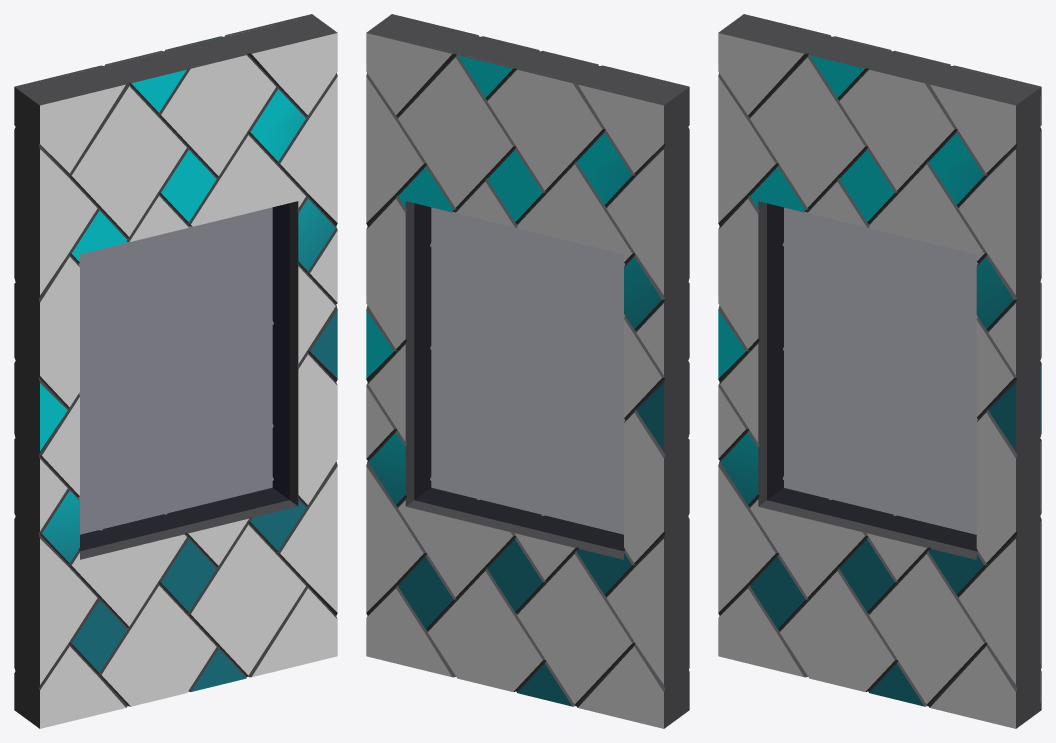
Rendered from TurquoiseTileWindow.glb.
The picture shows the model from 3 angles, left to right: view 1: azimuth 30°, elevation 25°; view 2: azimuth 150°, elevation 25°; view 3: azimuth 330°, elevation 25°; orthographic projection.
Visible parts, largest first — view 1: wall_turquoiseTile_window; view 2: wall_turquoiseTile_window; view 3: wall_turquoiseTile_window.
Boxes of the visible parts, x1,y1,x2,y2 form: wall_turquoiseTile_window: [14, 14, 337, 728]; wall_turquoiseTile_window: [366, 14, 689, 728]; wall_turquoiseTile_window: [718, 14, 1041, 728].
Size of what is drawn, in the model's own units: 2 by 4 by 0.3.
2 materials, 2 textured.
